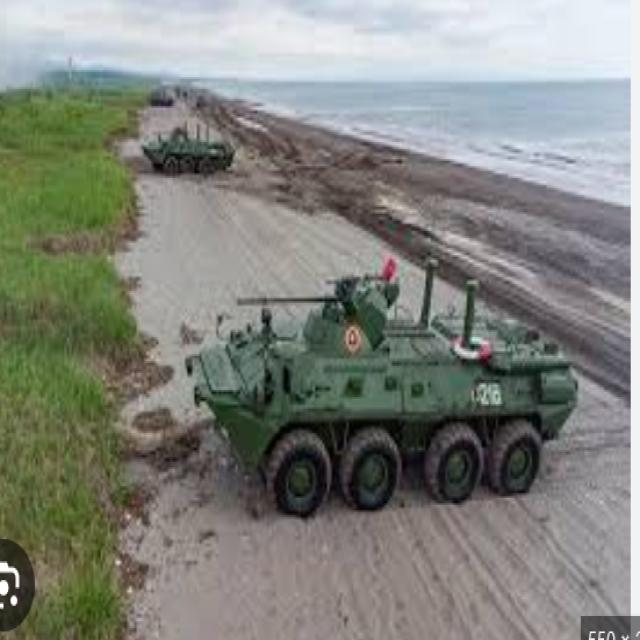MIL_APC: (184, 267, 592, 521), (134, 111, 240, 183)
